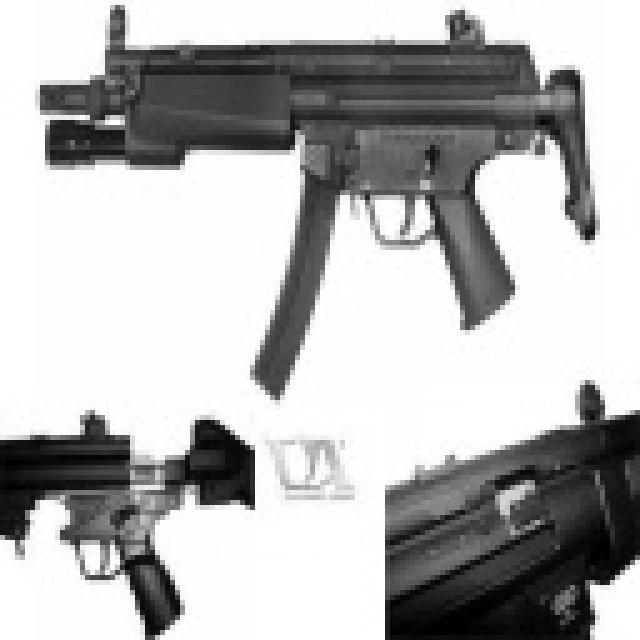Rifle: (0, 0, 640, 415), (355, 360, 640, 640), (0, 385, 270, 640)
